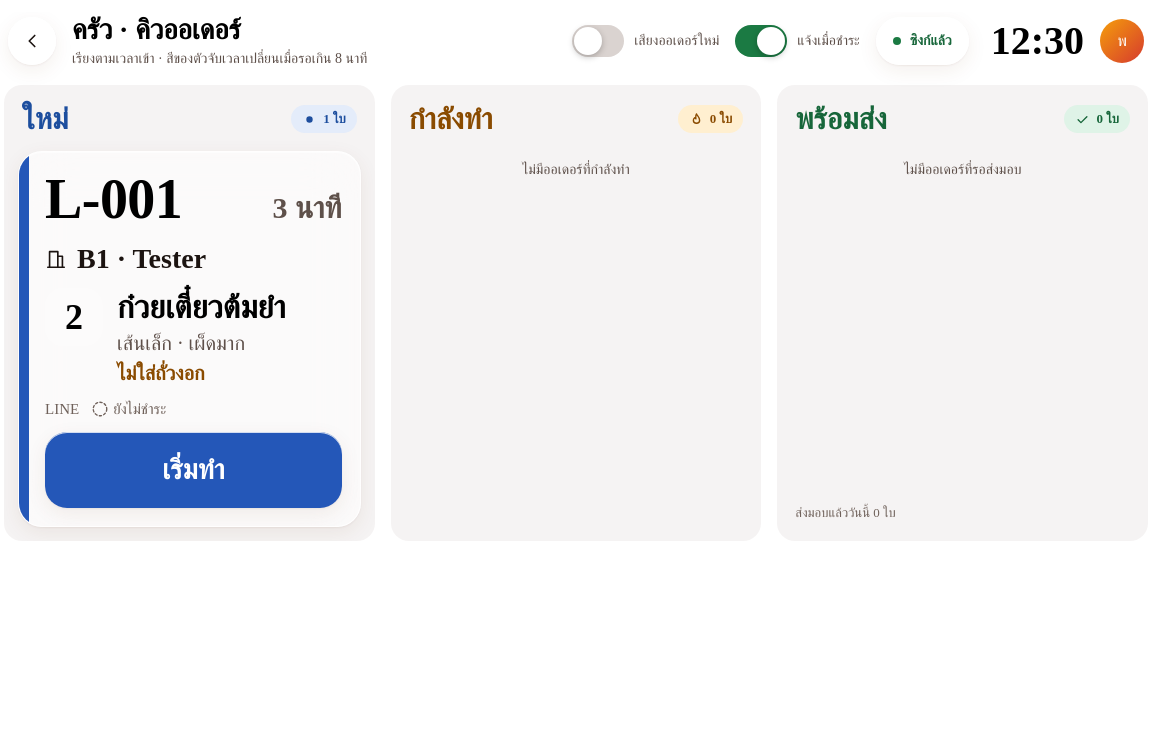
Test: the moves › a kitchen role starts a new order with one tap, and the card changes only when the server has answered
This screenshot has width=1152, height=732.
Later steps or results of the test are not shown.
Check: the element "L-001" is shown, box [18,151,361,527]
What coordinates should you click on to do the following:
click the button "เริ่มทำ"
I would click on:
 (193, 470)
Its box is [45,432,342,508].
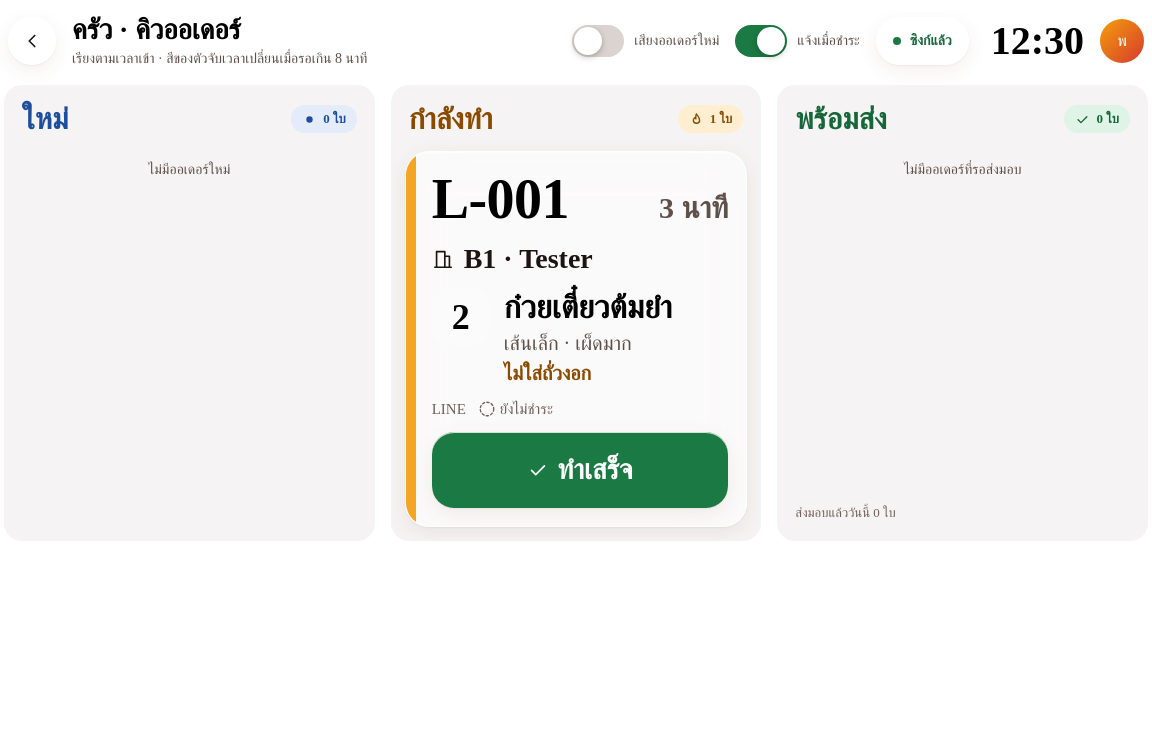
Check: the button "ทำเสร็จ" is shown, box [432,432,728,508]
